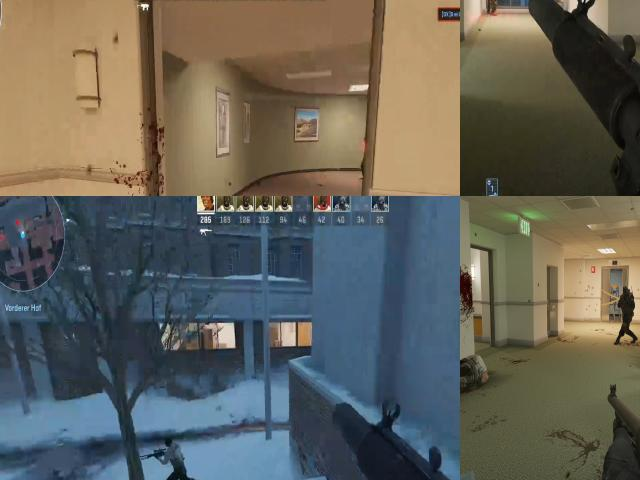CT: (616, 284, 638, 346)
CT-Head: (621, 286, 630, 294)
Dead: (460, 348, 492, 413)
T: (156, 432, 189, 479)
T-Head: (164, 435, 176, 451)
